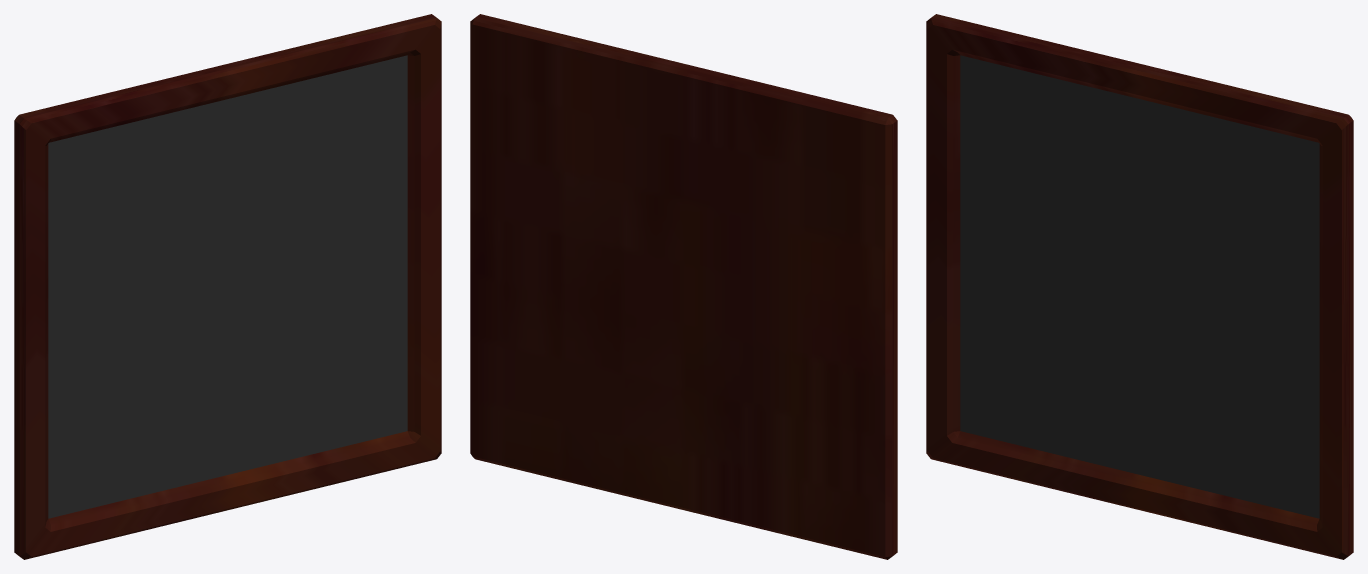
Rendered from Frame.fbx.
The picture shows the model from 3 angles, left to right: view 1: azimuth 30°, elevation 25°; view 2: azimuth 150°, elevation 25°; view 3: azimuth 330°, elevation 25°; orthographic projection.
Parts seen in each view (by area): view 1: Frame; view 2: Frame; view 3: Frame.
Boxes of the visible parts, left/top/right/bottom form: Frame: left=14, top=14, right=441, bottom=559; Frame: left=470, top=14, right=897, bottom=559; Frame: left=926, top=14, right=1353, bottom=559.
Bounding box in the file's own units: 0.4347 × 0.4347 × 0.0186.
2 materials, 1 textured.
